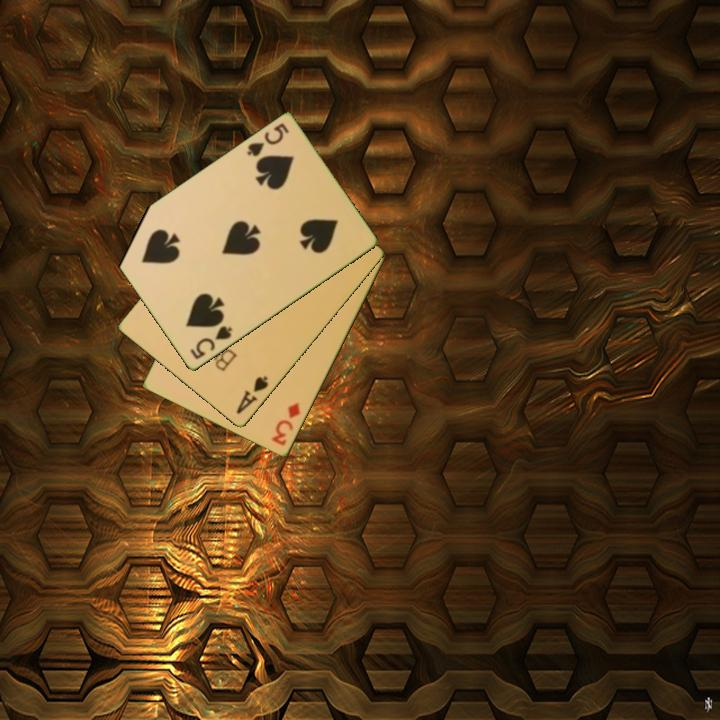3d: (268, 399, 303, 449)
5s: (186, 322, 235, 363), (243, 120, 292, 160)
As: (232, 373, 271, 418)
